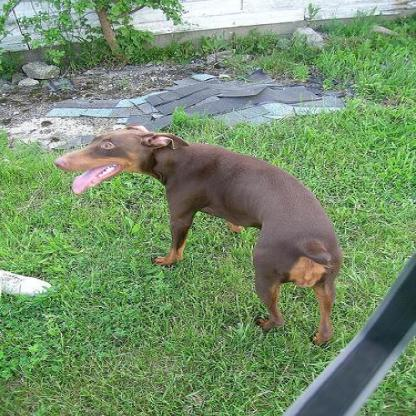Doberman: (52, 126, 344, 347)
